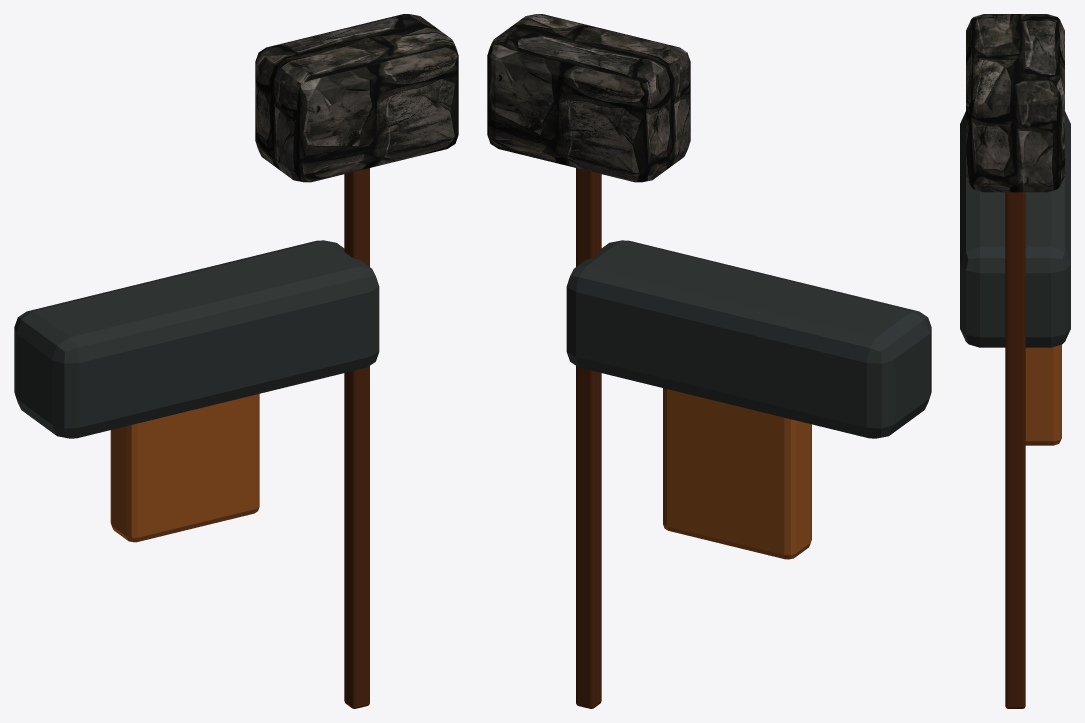
File: brute_colossus_role_kit_LOD1.glb
The picture shows the model from 3 angles, left to right: view 1: azimuth 30°, elevation 25°; view 2: azimuth 150°, elevation 25°; view 3: azimuth 270°, elevation 25°; orthographic projection.
Parts seen in each view (by area): view 1: LOD1_ColossusShoulders, LOD1_MaulHead, LOD1_ChestPlate, LOD1_MaulHaft; view 2: LOD1_ColossusShoulders, LOD1_MaulHead, LOD1_ChestPlate, LOD1_MaulHaft; view 3: LOD1_MaulHead, LOD1_ColossusShoulders, LOD1_MaulHaft, LOD1_ChestPlate.
Boxes of the visible parts, left/top/right/bottom form: LOD1_ColossusShoulders: left=14, top=240, right=379, bottom=438; LOD1_MaulHead: left=255, top=14, right=458, bottom=182; LOD1_ChestPlate: left=110, top=394, right=259, bottom=542; LOD1_MaulHaft: left=344, top=168, right=369, bottom=708; LOD1_ColossusShoulders: left=566, top=240, right=931, bottom=438; LOD1_MaulHead: left=487, top=14, right=690, bottom=182; LOD1_ChestPlate: left=663, top=388, right=811, bottom=559; LOD1_MaulHaft: left=576, top=168, right=601, bottom=708; LOD1_MaulHead: left=966, top=14, right=1064, bottom=192; LOD1_ColossusShoulders: left=960, top=111, right=1070, bottom=347; LOD1_MaulHaft: left=1005, top=192, right=1025, bottom=708; LOD1_ChestPlate: left=1025, top=344, right=1061, bottom=445.
Bounding box in the file's own units: 1.6 × 2.49 × 0.38.
Materials: 4 (1 with a texture image).
